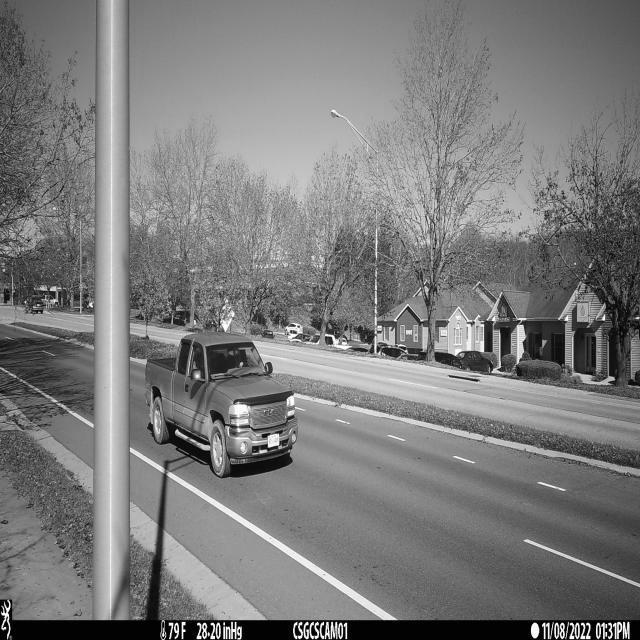Pickup: (145, 332, 299, 479)
